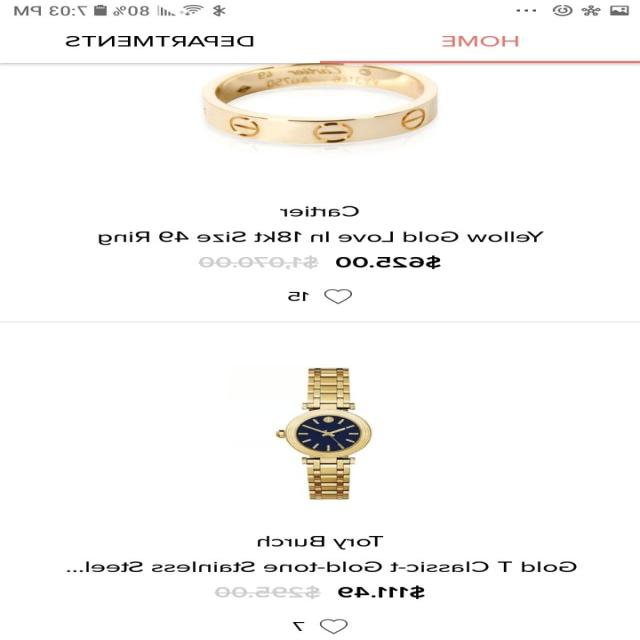Icon: (320, 618, 348, 633), (324, 289, 352, 304)
Image: (202, 63, 440, 160), (276, 367, 374, 500)
Text: (100, 231, 544, 245), (67, 561, 578, 572), (197, 255, 442, 269), (214, 585, 426, 599), (66, 36, 254, 46), (258, 536, 384, 550), (280, 205, 360, 217), (442, 36, 520, 48), (288, 292, 310, 302), (293, 621, 306, 630)
